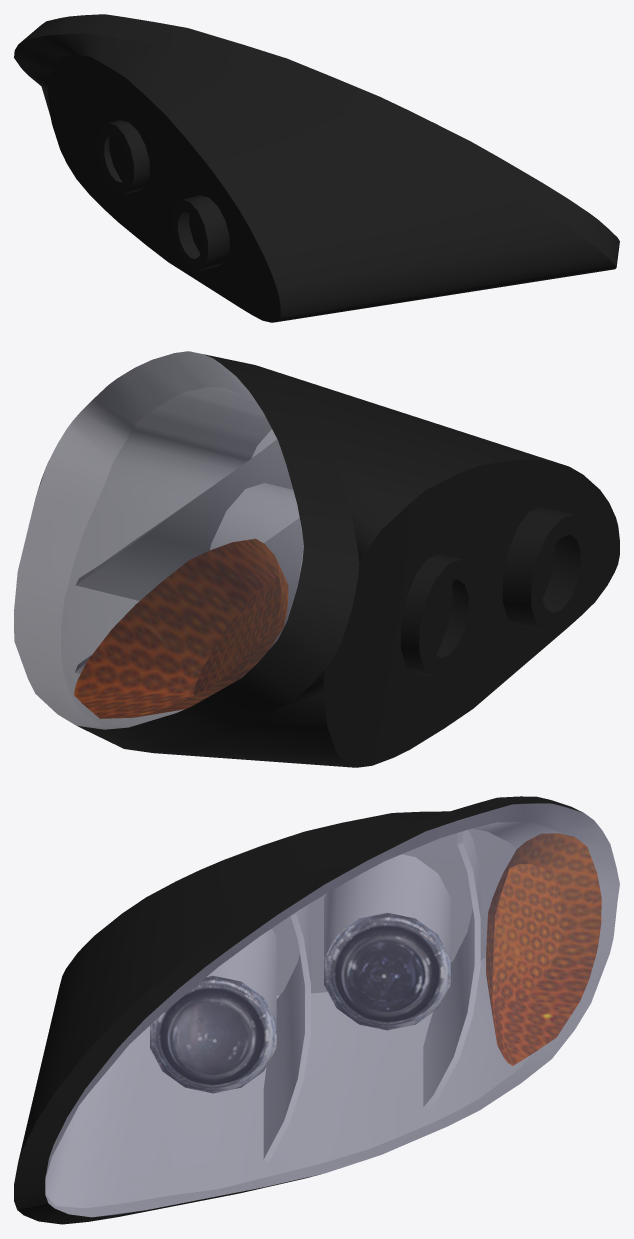
The picture shows the model from 3 angles, top to bottom: view 1: azimuth 30°, elevation 25°; view 2: azimuth 150°, elevation 25°; view 3: azimuth 270°, elevation 25°; orthographic projection. The views are drawn at different scales.
Parts seen in each view (by area): view 1: M720_061B_L_1_D_M720_061B_L; view 2: M720_061B_L_1_D_M720_061B_L, M720_061B_L_M720_061B_L_6_DTaSI, M720_061B_L_M720_061B_L_2_DaS, M720_061B_L_M720_061B_L_3_N; view 3: M720_061B_L_M720_061B_L_6_DTaSI, M720_061B_L_M720_061B_L_2_DaS, M720_061B_L_1_D_M720_061B_L, M720_061B_L_M720_061B_L_3_N, M720_061B_L_M720_061B_L_4_N, M720_061B_L_M720_061B_L_5_N.
Boxes of the visible parts, left/top/right/bottom form: M720_061B_L_1_D_M720_061B_L: left=14, top=14, right=619, bottom=322; M720_061B_L_1_D_M720_061B_L: left=38, top=354, right=619, bottom=767; M720_061B_L_M720_061B_L_6_DTaSI: left=14, top=351, right=303, bottom=729; M720_061B_L_M720_061B_L_2_DaS: left=14, top=351, right=303, bottom=729; M720_061B_L_M720_061B_L_3_N: left=74, top=538, right=288, bottom=718; M720_061B_L_M720_061B_L_6_DTaSI: left=45, top=803, right=619, bottom=1216; M720_061B_L_M720_061B_L_2_DaS: left=45, top=803, right=619, bottom=1217; M720_061B_L_1_D_M720_061B_L: left=14, top=796, right=582, bottom=1224; M720_061B_L_M720_061B_L_3_N: left=486, top=833, right=601, bottom=1065; M720_061B_L_M720_061B_L_4_N: left=324, top=912, right=450, bottom=1030; M720_061B_L_M720_061B_L_5_N: left=150, top=976, right=276, bottom=1093.
Size of the model in its own units: 41.23 by 20.07 by 45.92.
